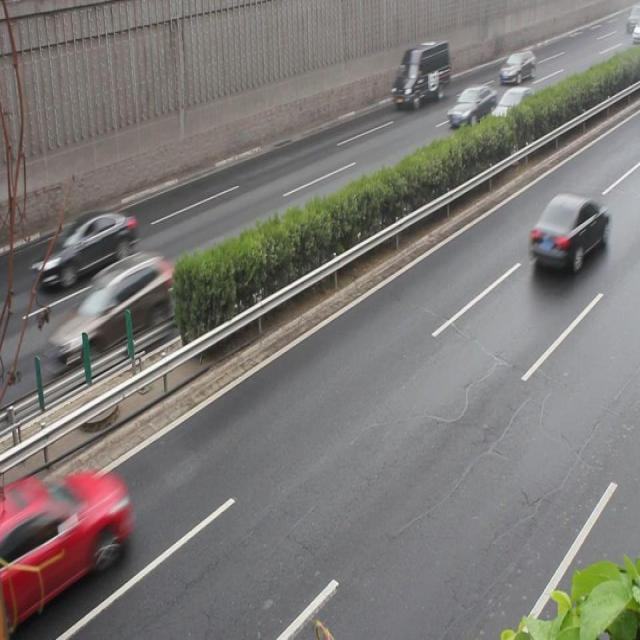car: (1, 467, 125, 593), (44, 250, 172, 357), (36, 210, 138, 286), (526, 191, 606, 269), (488, 86, 538, 131), (446, 84, 493, 128)
